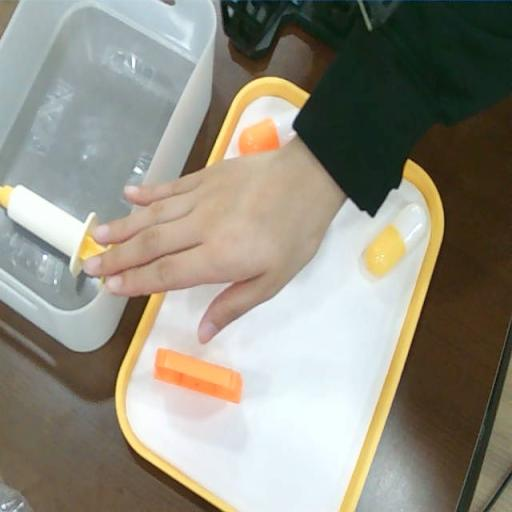hospital: (79, 158, 310, 346)
